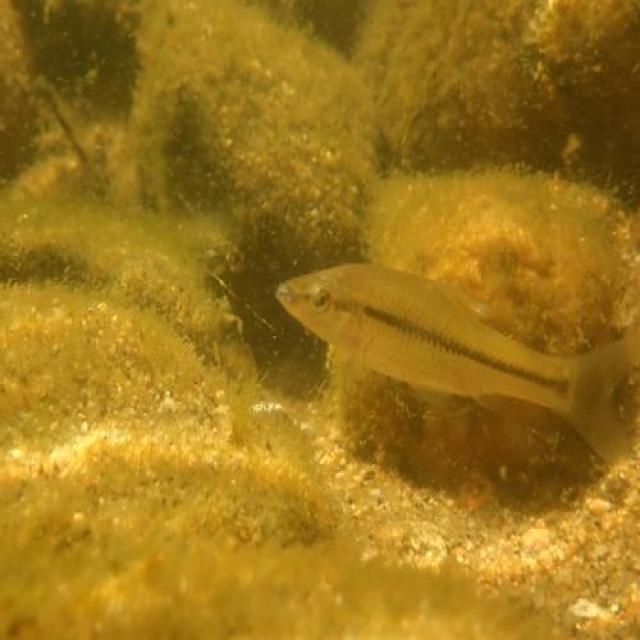Cakil Baligi: (268, 261, 640, 466)
